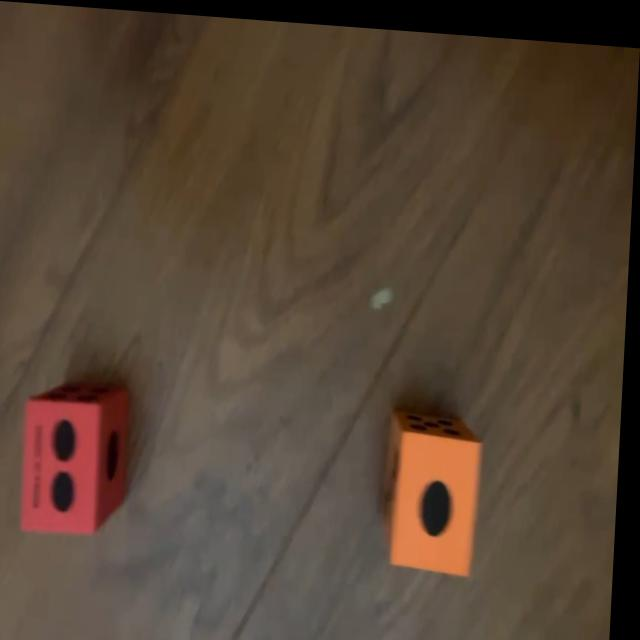cube: (24, 375, 135, 539)
